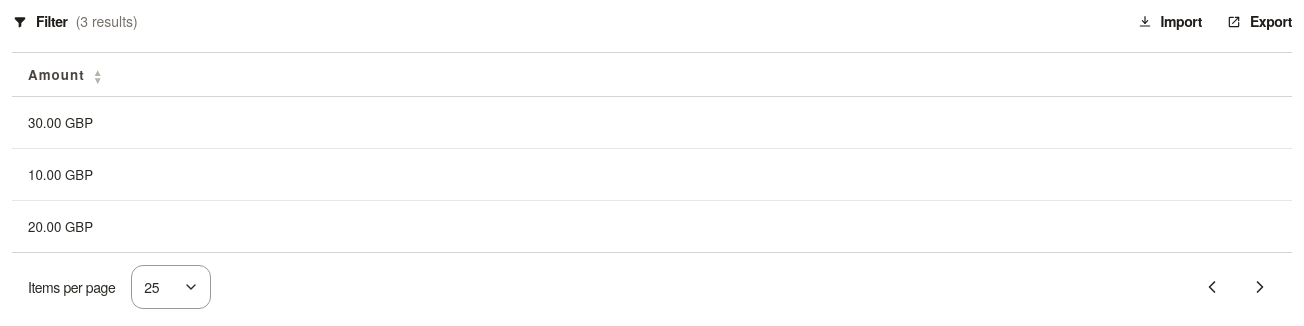
DataTable › supports custom sortAccessor when sorting is enabled
Click the button "Amount ▲ ▼" at (66, 74), box [28, 65, 104, 84]
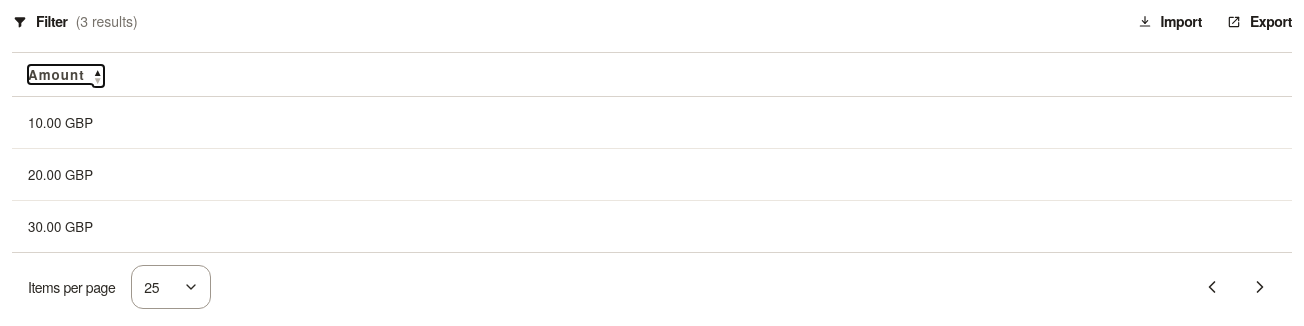
Check: the cell "10.00 GBP" is shown, box [12, 96, 1292, 148]
Check: the cell "20.00 GBP" is shown, box [12, 149, 1292, 201]
Check: the cell "30.00 GBP" is shown, box [12, 201, 1292, 252]
